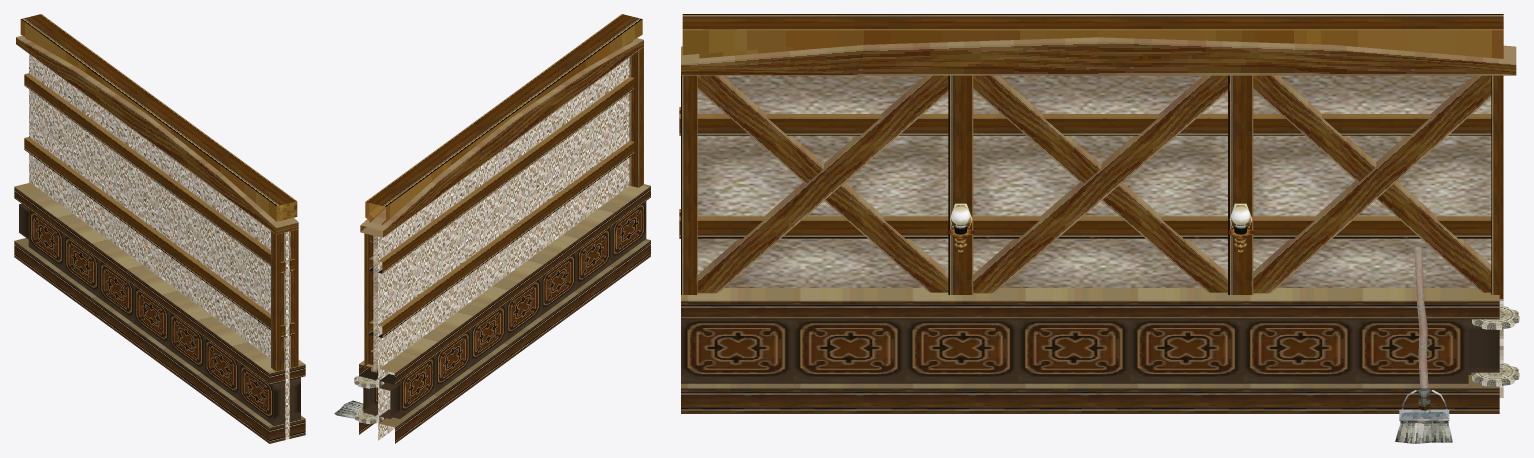
File: kabe14-1.glb
3 renders of one model, left to right at view 1: azimuth 30°, elevation 25°; view 2: azimuth 150°, elevation 25°; view 3: azimuth 270°, elevation 25°, orthographic. The views are drawn at different scales.
Parts seen in each view (by area): view 1: kabe14_1; view 2: kabe14_1; view 3: kabe14_1.
Part boxes in pixels (left/top/right/bottom): kabe14_1: left=14, top=14, right=305, bottom=443; kabe14_1: left=334, top=14, right=650, bottom=443; kabe14_1: left=679, top=14, right=1519, bottom=443.
Bounding box in the file's own units: 171 × 499 × 1006.
17 materials, 17 textured.
